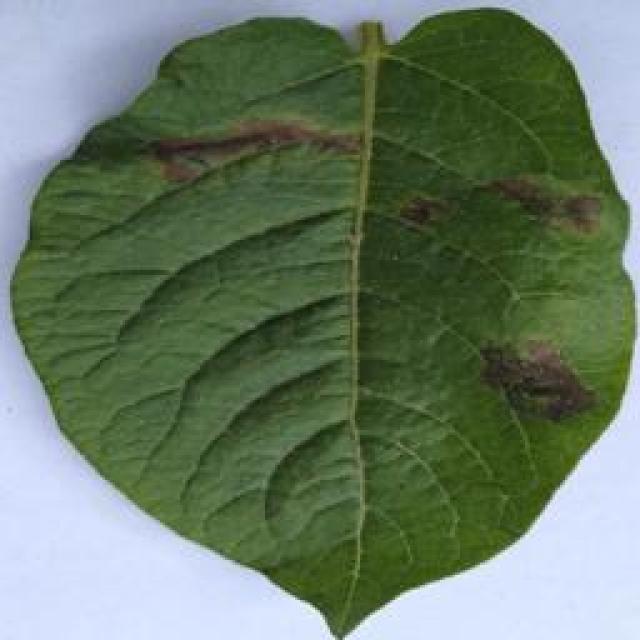Potato_Late_Blight: (7, 5, 634, 628)
